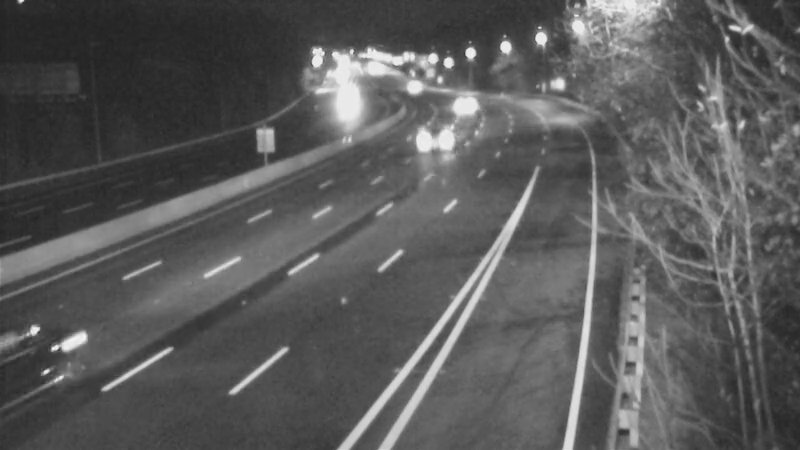vehicle: (1, 304, 96, 414), (386, 60, 436, 110), (440, 78, 490, 128), (413, 117, 463, 167), (318, 81, 368, 131)
